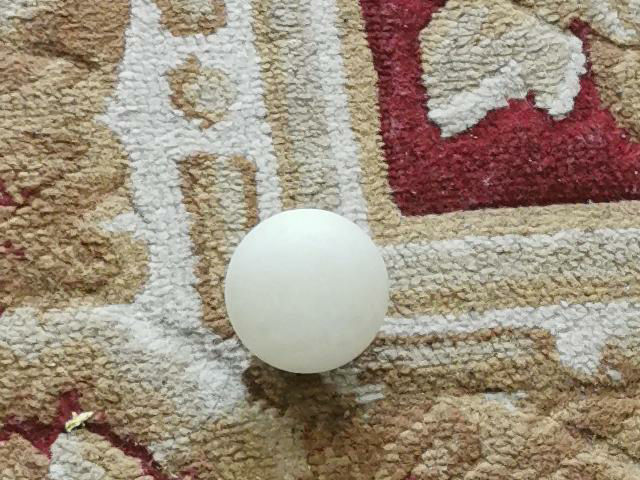ball: (222, 205, 391, 376)
